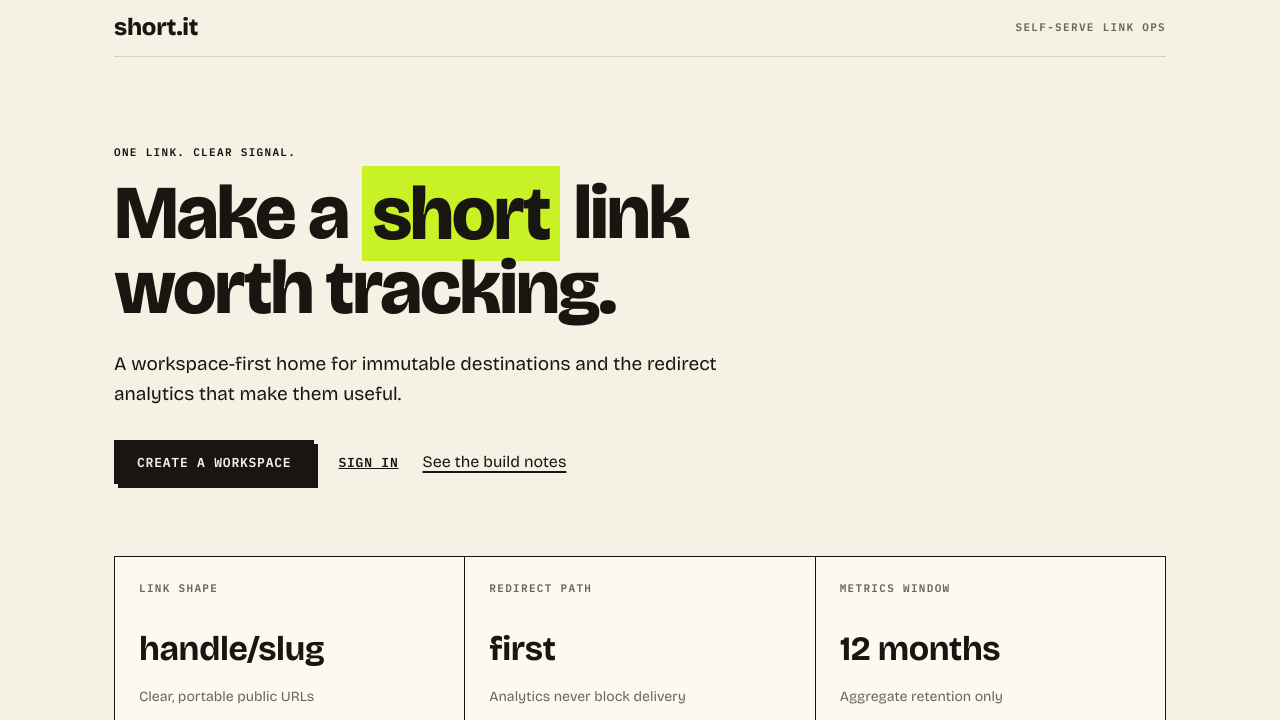
Scenario: App › keeps a copied invitation pending through sign-in until the recipient confirms
Click the button "Sign in": coordinates (369, 462) [338,440,399,484]
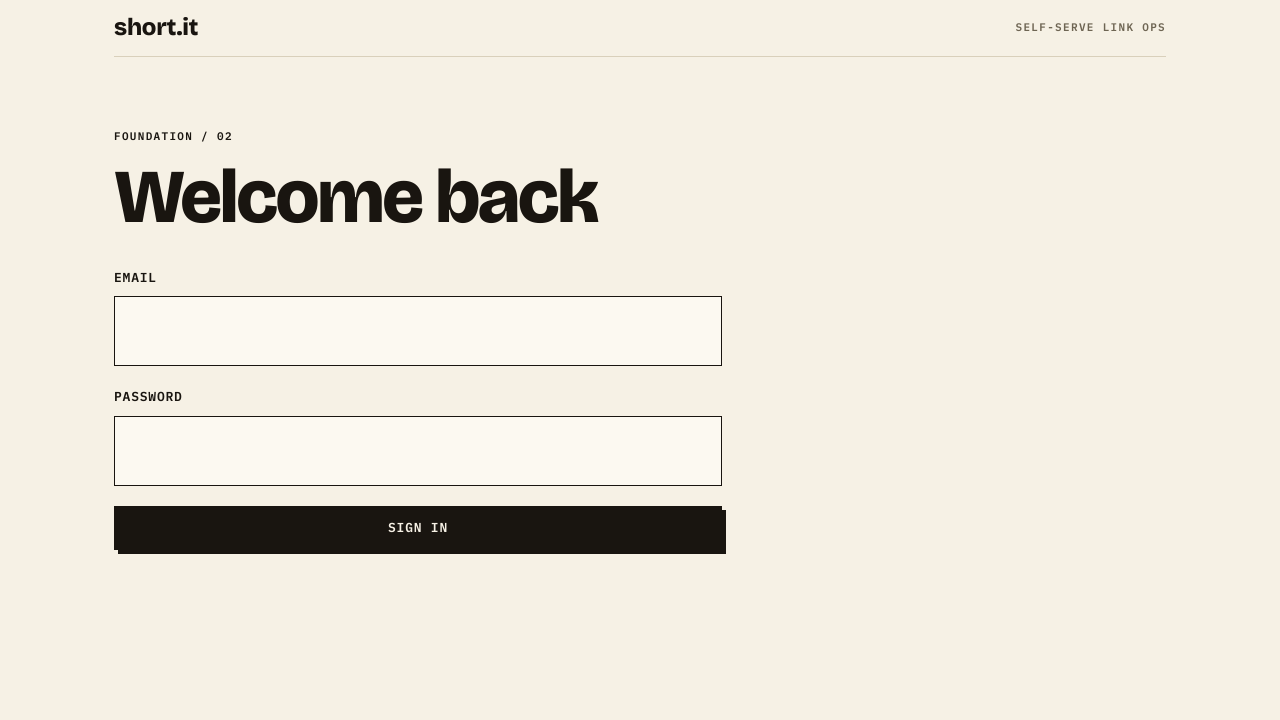
In the field labelled "Email": coordinates (418, 331) [114,296,722,366], type "ada@example.test"
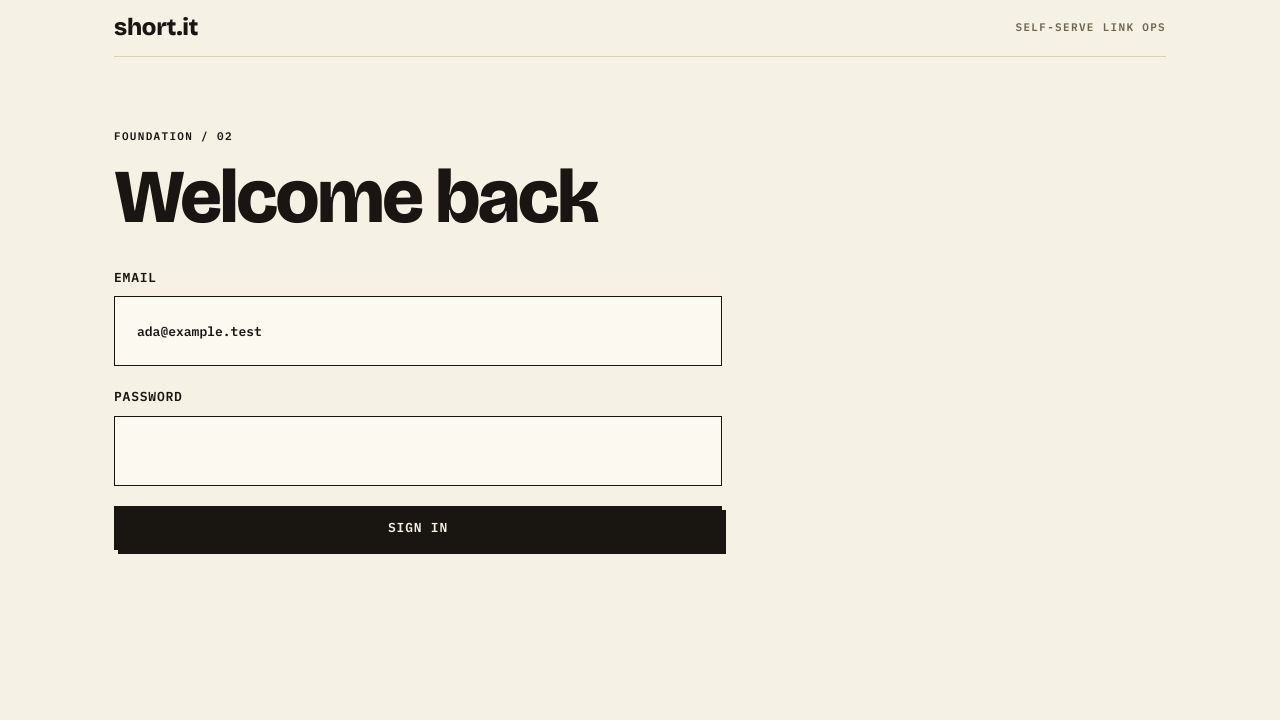
In the password field labelled "Password": coordinates (418, 451) [114,416,722,486], type "correct-horse-battery-staple"
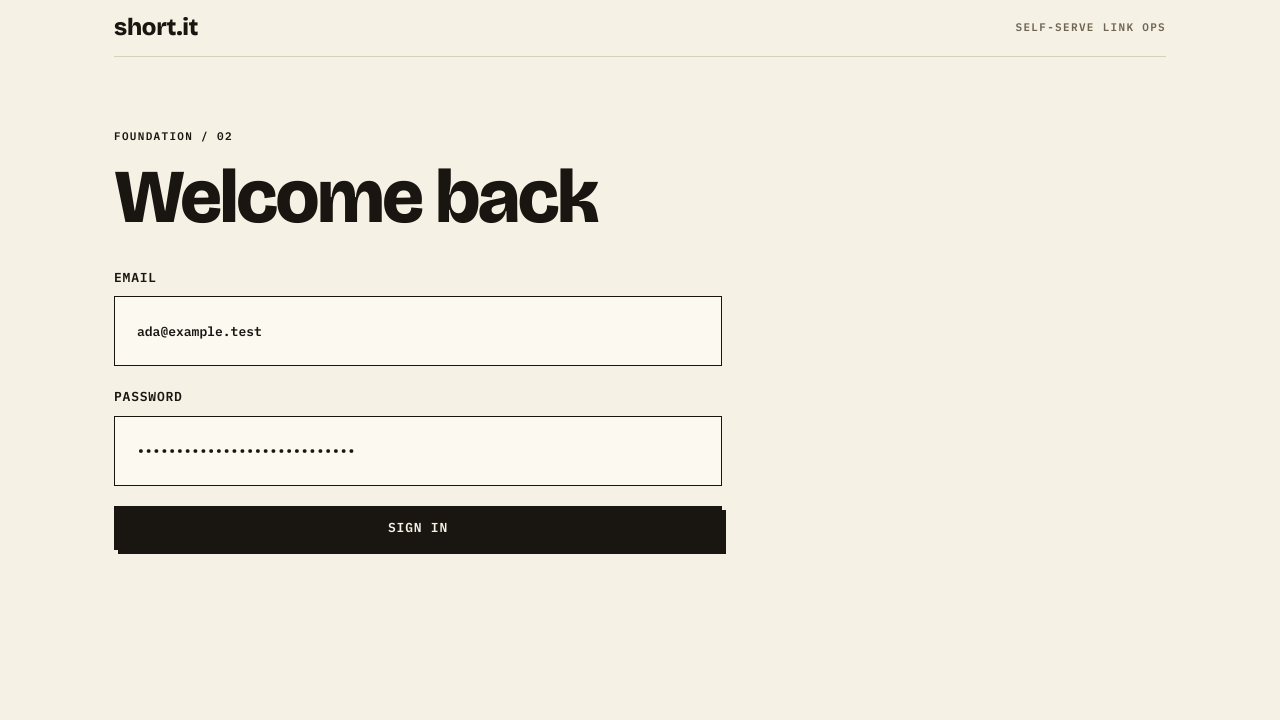
Submit the form "Sign in", box [114,267,722,550]
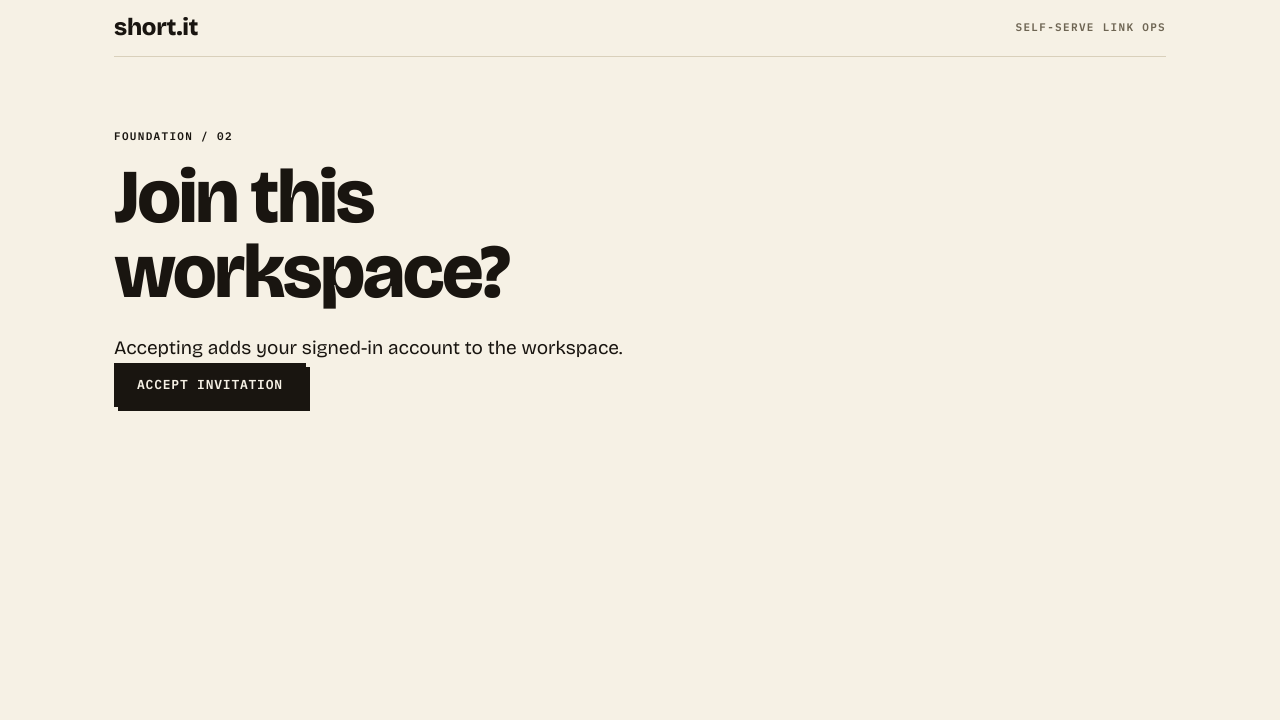
Expected: the heading "Join this workspace?" is shown, [114,151,508,318]
